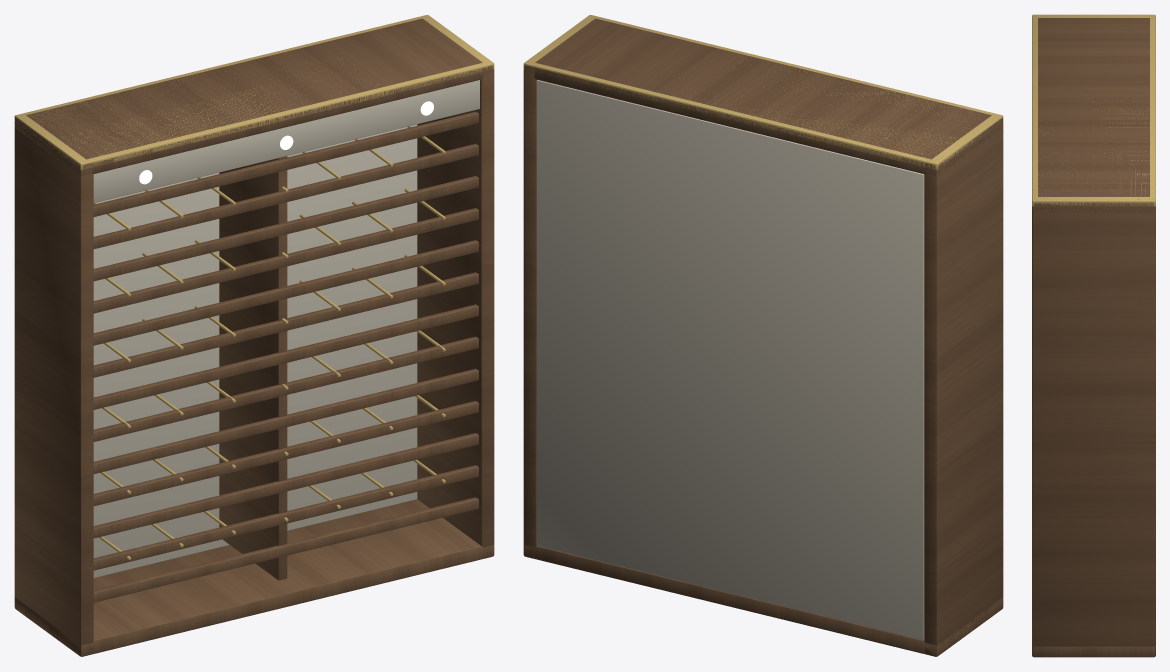
File: pf_display_accessory_rack_t4.glb
3 renders of one model, left to right at view 1: azimuth 30°, elevation 25°; view 2: azimuth 150°, elevation 25°; view 3: azimuth 270°, elevation 25°, orthographic. The views are drawn at different scales.
Visible parts, largest first — view 1: Case_Back, Case_Left, Crown_Main, Case_Base, Case_Right, Millwork_Divider_01, Header_Back, Crown_Trim, Case_Top, Accessory_Slat_01, Accessory_Slat_03, Accessory_Slat_09 (+10 smaller); view 2: Case_Back, Case_Left, Crown_Main, Crown_Trim, Case_Right, Case_Base, Case_Top; view 3: Case_Right, Crown_Main, Crown_Trim, Case_Base, Case_Top.
Boxes of the visible parts, x1,y1,x2,y2 form: Case_Back: [93, 124, 417, 577]; Case_Left: [14, 119, 93, 656]; Crown_Main: [26, 18, 482, 159]; Case_Base: [14, 499, 493, 656]; Case_Right: [417, 65, 494, 558]; Millwork_Divider_01: [219, 156, 287, 580]; Header_Back: [93, 80, 479, 202]; Crown_Trim: [14, 15, 494, 170]; Case_Top: [14, 68, 487, 175]; Accessory_Slat_01: [93, 497, 478, 602]; Accessory_Slat_03: [93, 433, 478, 538]; Accessory_Slat_09: [93, 240, 478, 345]; Case_Back: [536, 80, 924, 639]; Case_Left: [924, 118, 1003, 655]; Crown_Main: [535, 18, 991, 159]; Crown_Trim: [523, 15, 1003, 170]; Case_Right: [523, 65, 536, 557]; Case_Base: [523, 545, 1003, 656]; Case_Top: [528, 66, 1002, 175]; Case_Right: [1032, 198, 1155, 657]; Crown_Main: [1038, 18, 1149, 196]; Crown_Trim: [1032, 14, 1155, 206]; Case_Base: [1032, 646, 1155, 657]; Case_Top: [1032, 202, 1154, 212].
Bounding box in the file's own units: 2 × 2.28 × 0.56.
5 materials, 1 textured.
